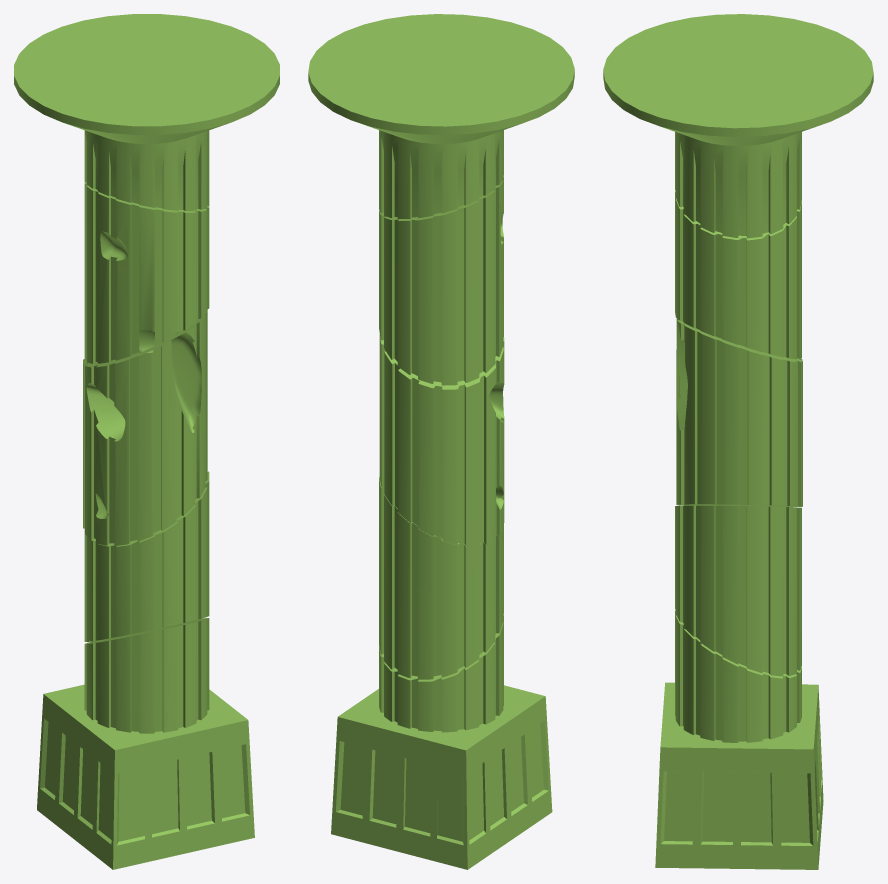
The model's file is ColumnFull2.obj.
The picture shows the model from 3 angles, left to right: view 1: azimuth 30°, elevation 25°; view 2: azimuth 150°, elevation 25°; view 3: azimuth 270°, elevation 25°; orthographic projection.
Parts seen in each view (by area): view 1: ColumnFull2; view 2: ColumnFull2; view 3: ColumnFull2.
Boxes of the visible parts, left/top/right/bottom form: ColumnFull2: left=14, top=14, right=279, bottom=869; ColumnFull2: left=308, top=14, right=574, bottom=869; ColumnFull2: left=603, top=14, right=873, bottom=869.
Bounding box in the file's own units: 11.89 × 37.06 × 11.89.
